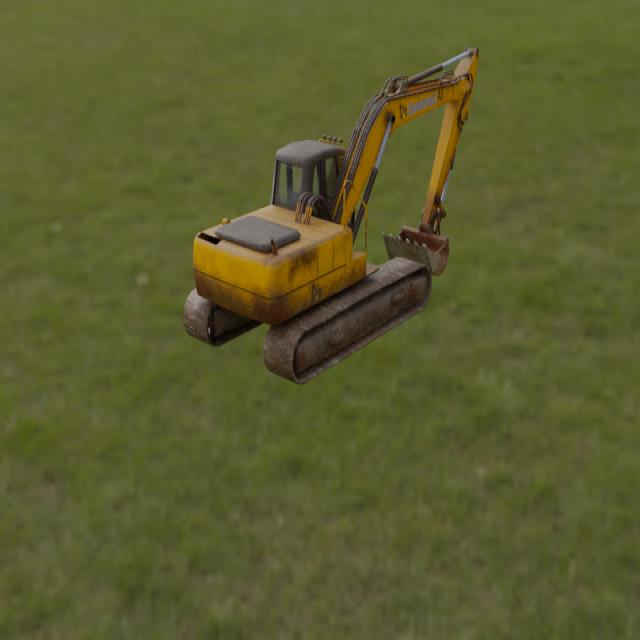excavator: (182, 46, 479, 386)
